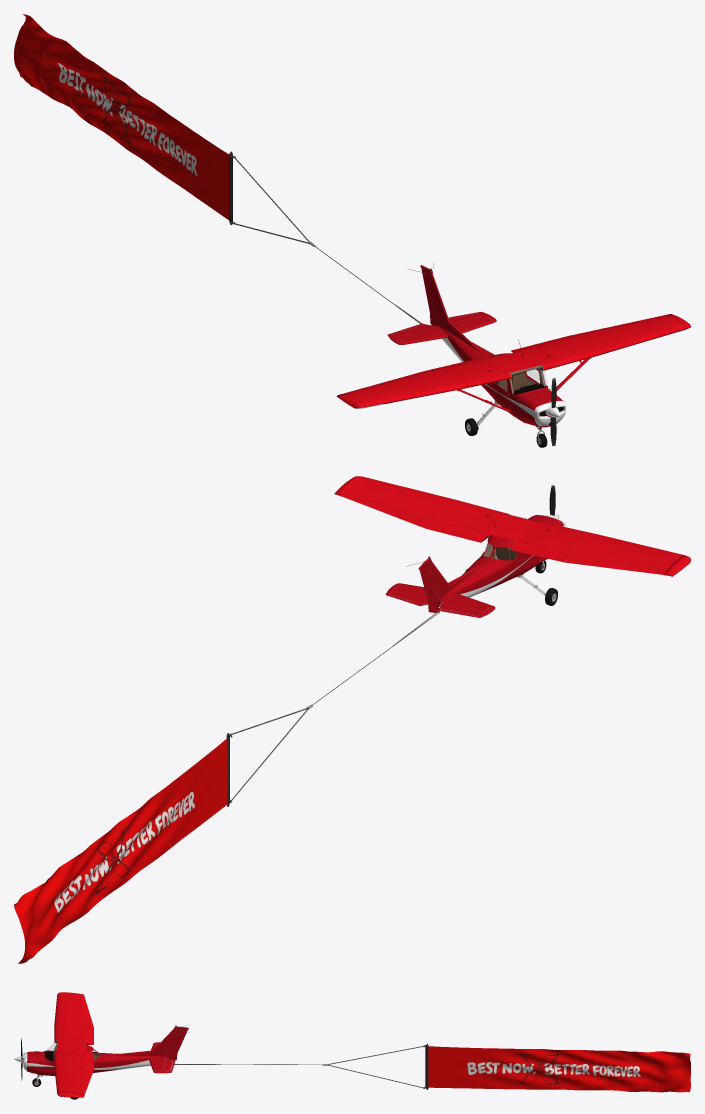
The model's file is TcccAirplane-optimized.glb.
3 views of the same model, one above another, from view 1: azimuth 30°, elevation 25°; view 2: azimuth 150°, elevation 25°; view 3: azimuth 270°, elevation 25° (orthographic). The views are drawn at different scales.
Parts seen in each view (by area): view 1: Banner_Small, Flap_Bottom_L, Cowling_Top, Elevator; view 2: Banner_Small, Flap_Bottom_L, Cowling_Top, Elevator; view 3: Banner_Small, Flap_Bottom_L, Cowling_Top, Elevator, Rudder, Rope_Small.
Boxes of the visible parts, x1=… form: Banner_Small: x1=14, y1=14, x2=229, y2=220; Flap_Bottom_L: x1=336, y1=314, x2=690, y2=408; Cowling_Top: x1=428, y1=275, x2=563, y2=427; Elevator: x1=387, y1=312, x2=496, y2=344; Banner_Small: x1=14, y1=738, x2=227, y2=963; Flap_Bottom_L: x1=334, y1=476, x2=690, y2=576; Cowling_Top: x1=428, y1=515, x2=563, y2=611; Elevator: x1=385, y1=583, x2=495, y2=617; Banner_Small: x1=428, y1=1046, x2=690, y2=1092; Flap_Bottom_L: x1=54, y1=992, x2=93, y2=1097; Cowling_Top: x1=27, y1=1029, x2=178, y2=1075; Elevator: x1=148, y1=1042, x2=175, y2=1073; Rudder: x1=165, y1=1024, x2=189, y2=1060; Rope_Small: x1=328, y1=1045, x2=425, y2=1088.
Bounding box in the file's own units: 188 × 57.19 × 519.
Materials: 17 (11 with a texture image).
